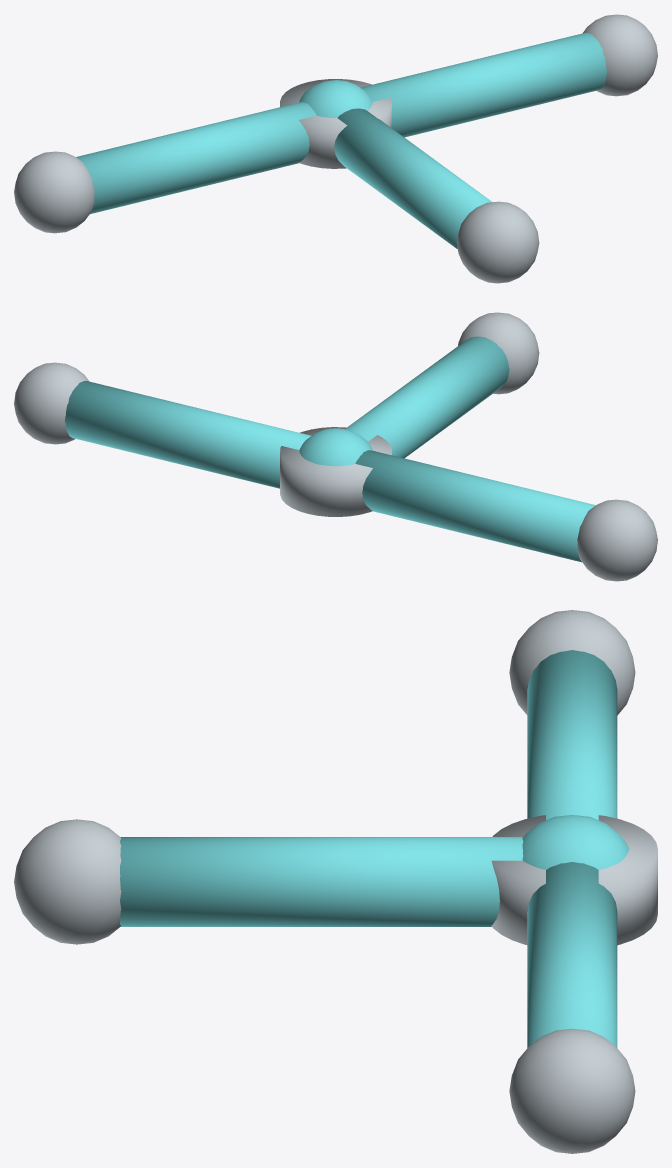
The model's file is conduit_tee_ultra.glb.
The picture shows the model from 3 angles, top to bottom: view 1: azimuth 30°, elevation 25°; view 2: azimuth 150°, elevation 25°; view 3: azimuth 270°, elevation 25°; orthographic projection. The views are drawn at different scales.
Parts seen in each view (by area): view 1: Conduit_cyan, Coupler_steel, JunctionCap_steel, Junction_cyan; view 2: Conduit_cyan, Coupler_steel, JunctionCap_steel, Junction_cyan; view 3: Conduit_cyan, Coupler_steel, JunctionCap_steel, Junction_cyan.
Part boxes in pixels (x1=…): Conduit_cyan: x1=76, y1=33, x2=606, y2=248; Coupler_steel: x1=14, y1=14, x2=657, y2=283; JunctionCap_steel: x1=280, y1=79, x2=391, y2=168; Junction_cyan: x1=299, y1=80, x2=372, y2=118; Conduit_cyan: x1=64, y1=336, x2=595, y2=562; Coupler_steel: x1=14, y1=312, x2=657, y2=581; JunctionCap_steel: x1=280, y1=427, x2=391, y2=516; Junction_cyan: x1=299, y1=428, x2=372, y2=466; Conduit_cyan: x1=120, y1=650, x2=617, y2=1047; Coupler_steel: x1=14, y1=610, x2=635, y2=1153; JunctionCap_steel: x1=491, y1=815, x2=657, y2=945; Junction_cyan: x1=522, y1=815, x2=629, y2=869.
Bounding box in the file's own units: 2.48 × 0.3 × 1.43.
